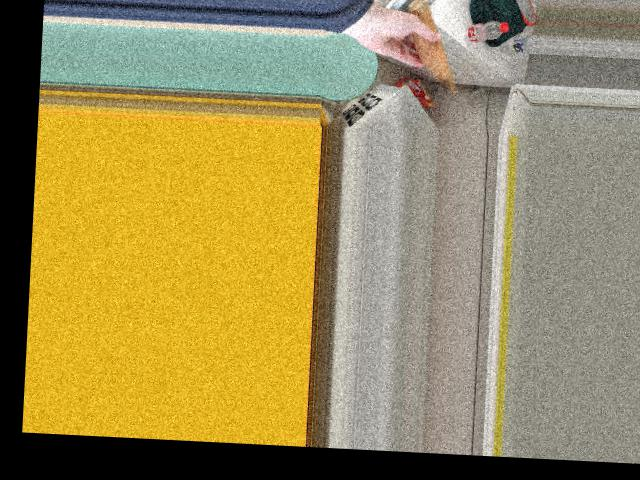sweet_potato: (405, 3, 455, 71)
